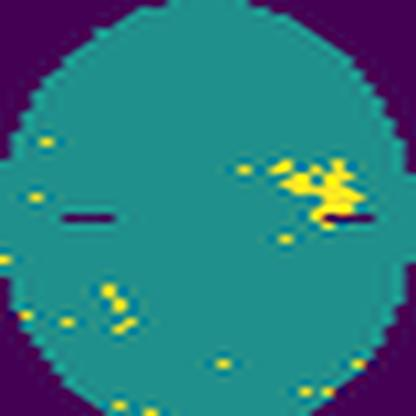Loc: (267, 152, 362, 237)
